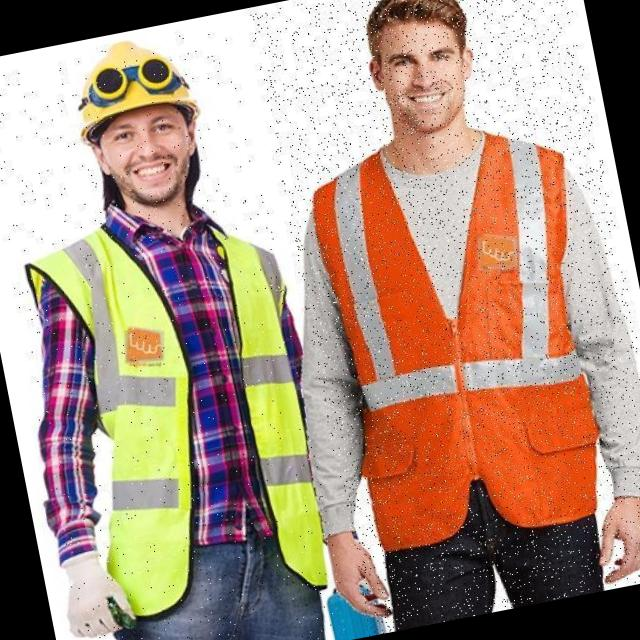hard_hat: (49, 30, 216, 146)
safety_vest: (298, 98, 632, 531), (44, 191, 344, 640)
vehicle: (249, 0, 640, 636), (0, 28, 347, 640)
